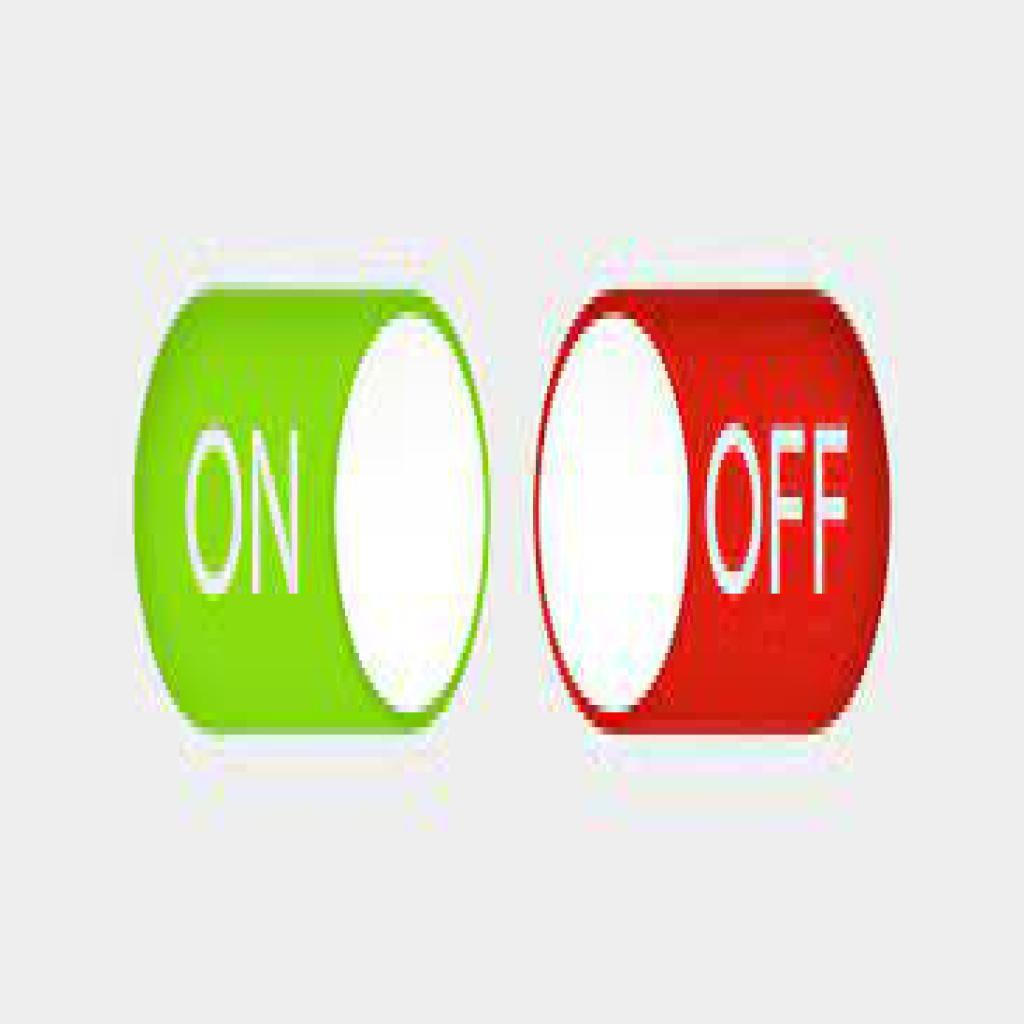switch: (531, 291, 896, 739), (130, 292, 484, 743)
